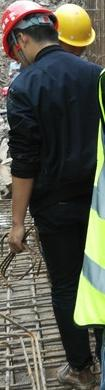boots: (56, 360, 97, 390), (1, 1, 1, 1)
hard-hat: (0, 0, 58, 60)
vest: (0, 0, 2, 1)
